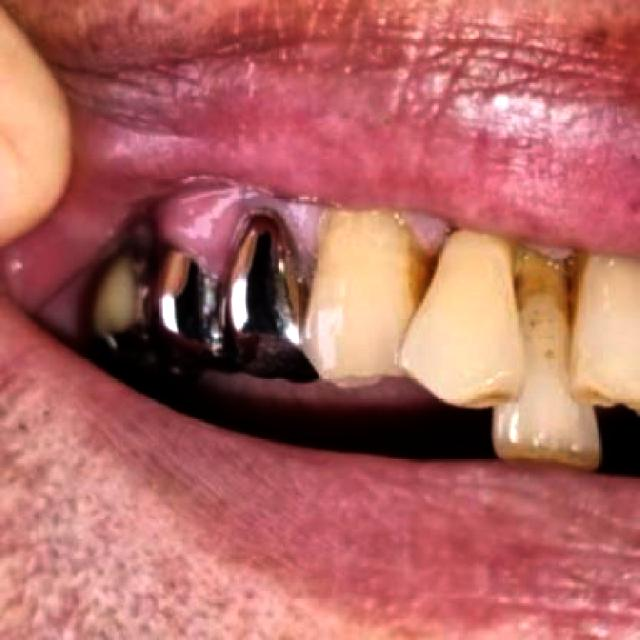Plaque: (400, 207, 569, 266)
